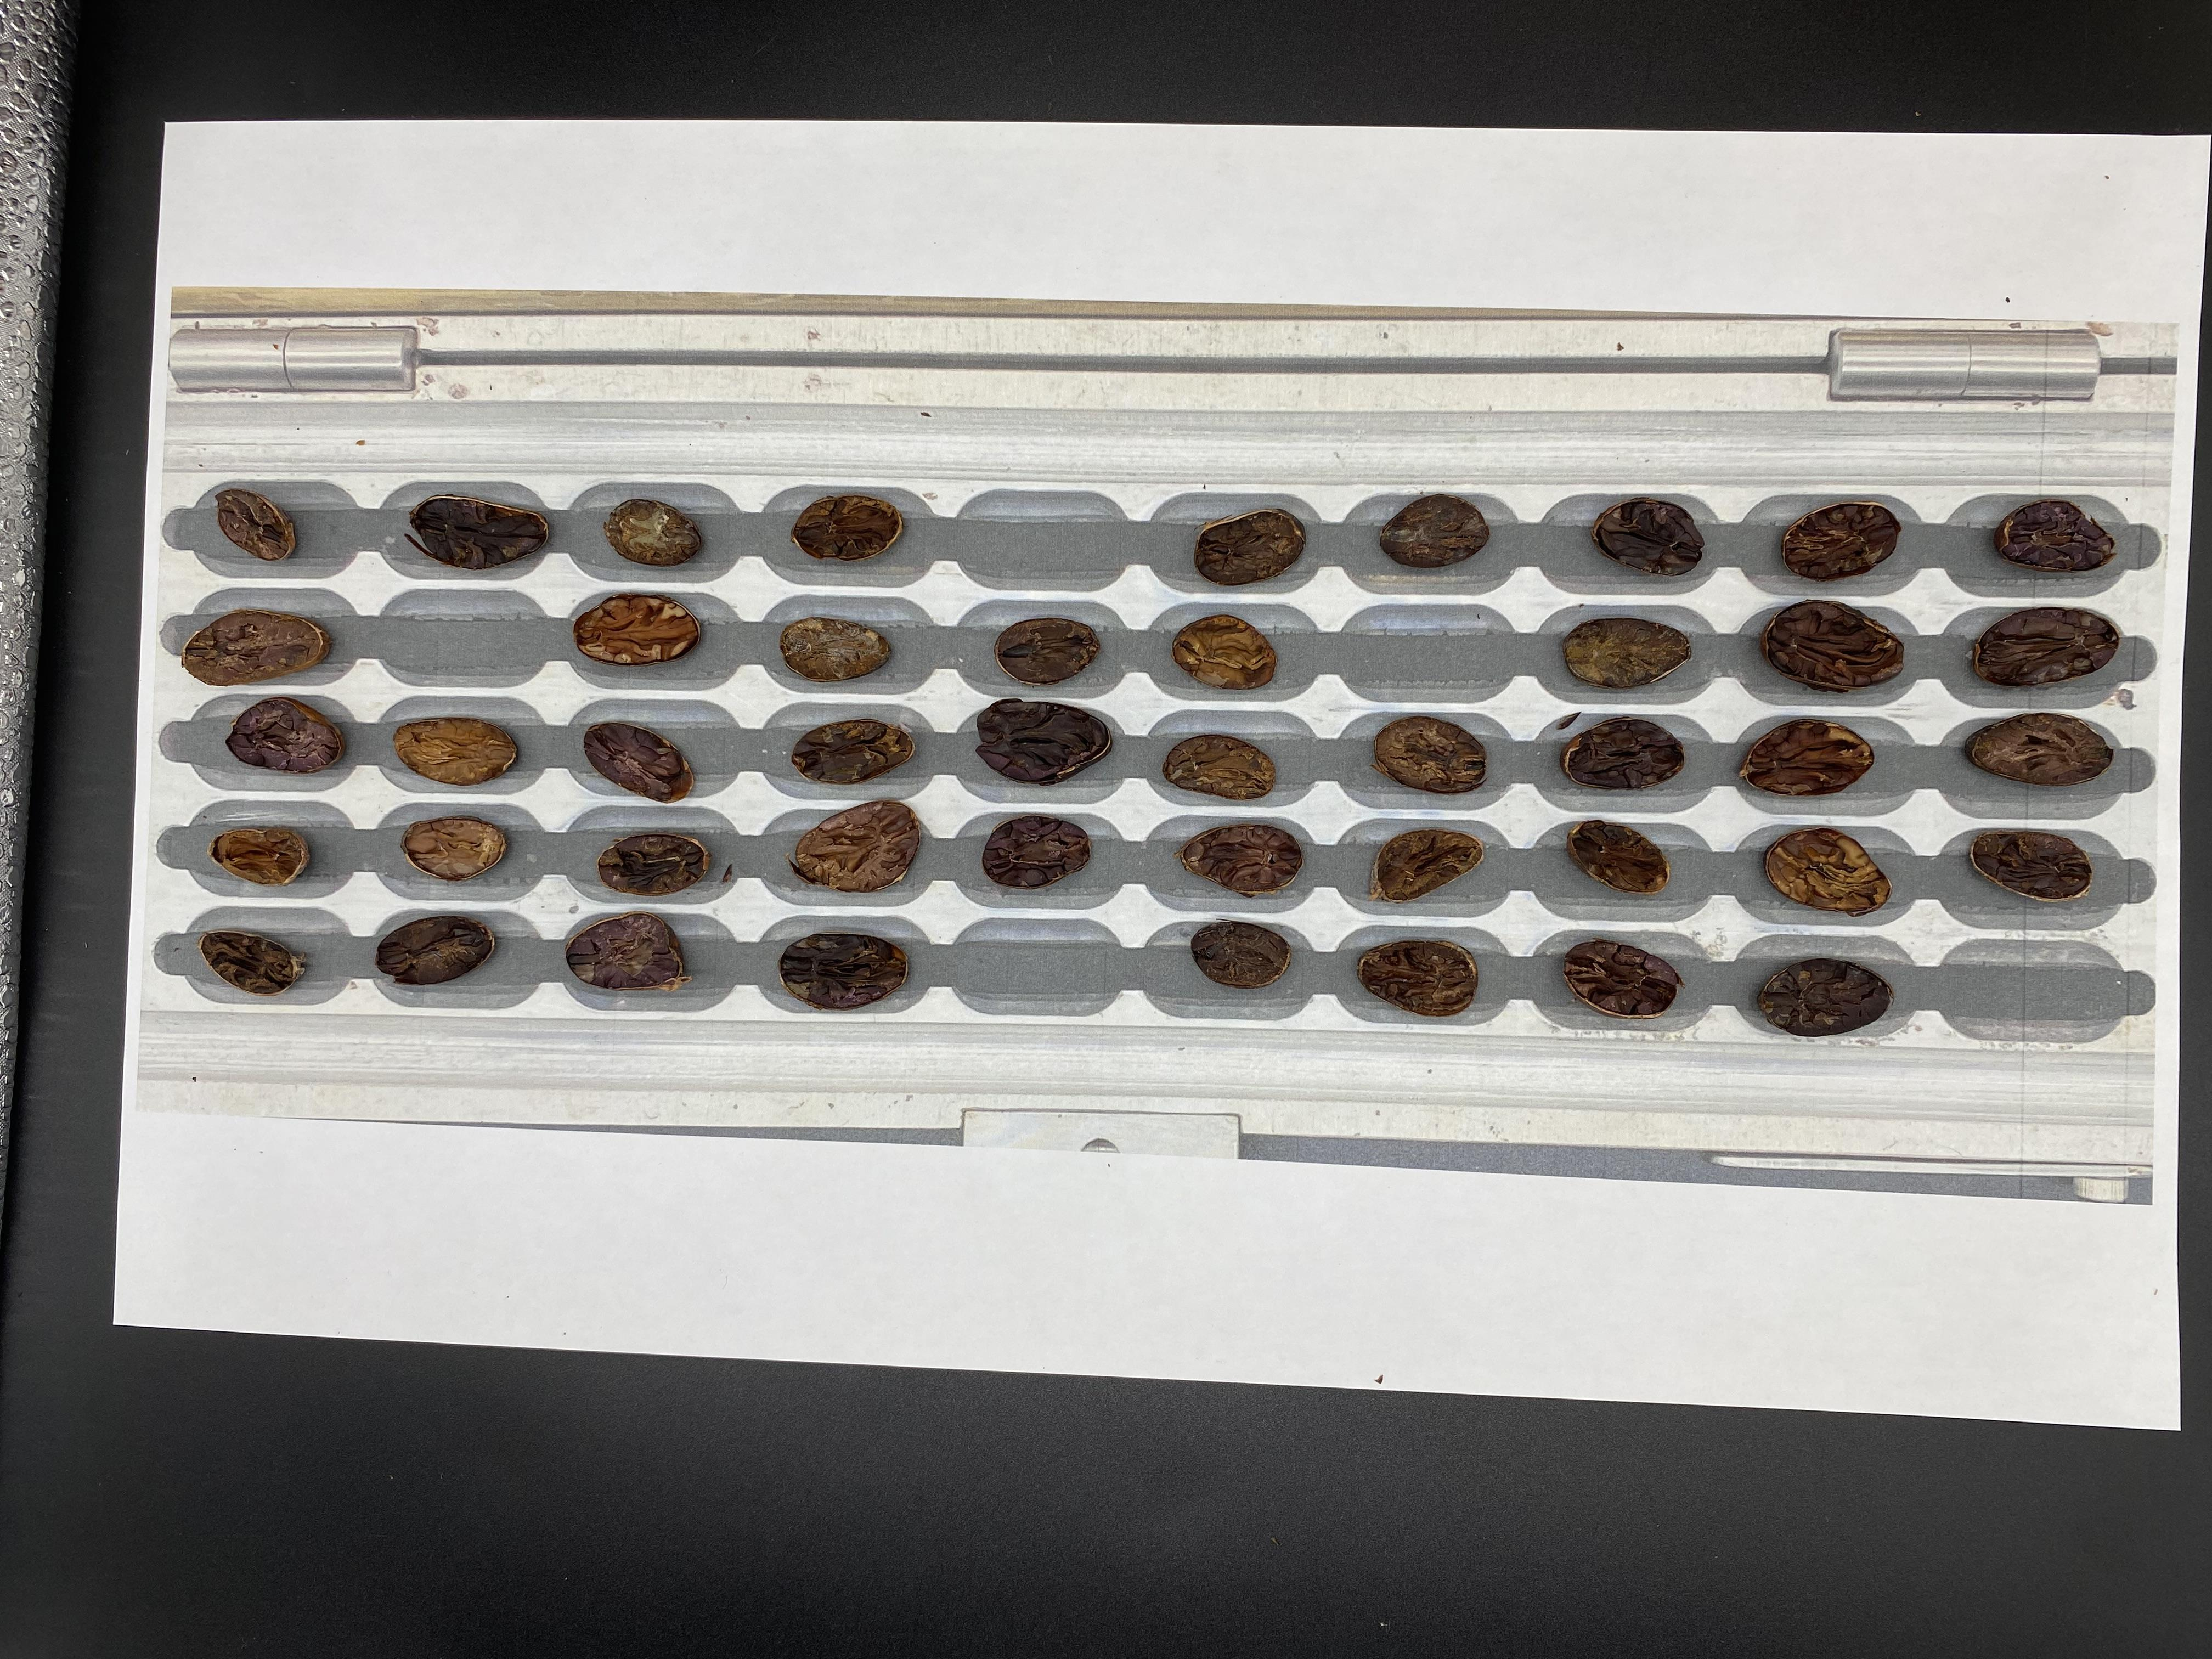Brown - G1: (1968, 1178, 2047, 1230), (1982, 1119, 2060, 1169), (1378, 1112, 1447, 1164), (1186, 1230, 1252, 1272)
Brown - G2: (1975, 1234, 2055, 1288), (1489, 1220, 1562, 1277), (1771, 1290, 1846, 1338), (1986, 1066, 2059, 1115), (1778, 1234, 1850, 1281), (1684, 1232, 1754, 1276), (1881, 1229, 1946, 1274), (1487, 1065, 1550, 1108), (1683, 1124, 1738, 1173)
Brown - G3: (1179, 1122, 1263, 1169), (1284, 1178, 1359, 1223), (2085, 1178, 2165, 1220), (1691, 1073, 1759, 1117), (1587, 1127, 1655, 1169), (1784, 1180, 1848, 1223), (1677, 1187, 1740, 1230), (1289, 1227, 1352, 1270), (1193, 1060, 1249, 1107)
Insect-damaged: (1879, 1129, 1954, 1171)
Mouldy: (1785, 1061, 1850, 1108), (1484, 1127, 1548, 1166), (1691, 1279, 1749, 1321), (1393, 1070, 1451, 1110)
Partly Purple - G1: (1580, 1169, 1658, 1222), (1879, 1290, 1949, 1342)
Partly Purple - G2: (2085, 1122, 2172, 1171), (1480, 1286, 1557, 1338), (1291, 1063, 1372, 1112), (1879, 1176, 1949, 1225), (1580, 1229, 1648, 1270), (1388, 1236, 1456, 1277)
Partly Purple - G3: (1381, 1180, 1449, 1229)
Total Purple - G2: (2099, 1066, 2168, 1110)
Total Purple - G3: (1372, 1277, 1444, 1326), (1200, 1168, 1270, 1215)
Very Dark Brown - G1: (1186, 1284, 1247, 1328)
Very Dark Brown - G2: (1892, 1066, 1959, 1115), (2087, 1234, 2156, 1281)
Very Dark Brown - G3: (1979, 1298, 2054, 1351), (1277, 1277, 1346, 1326), (1487, 1178, 1557, 1220)
